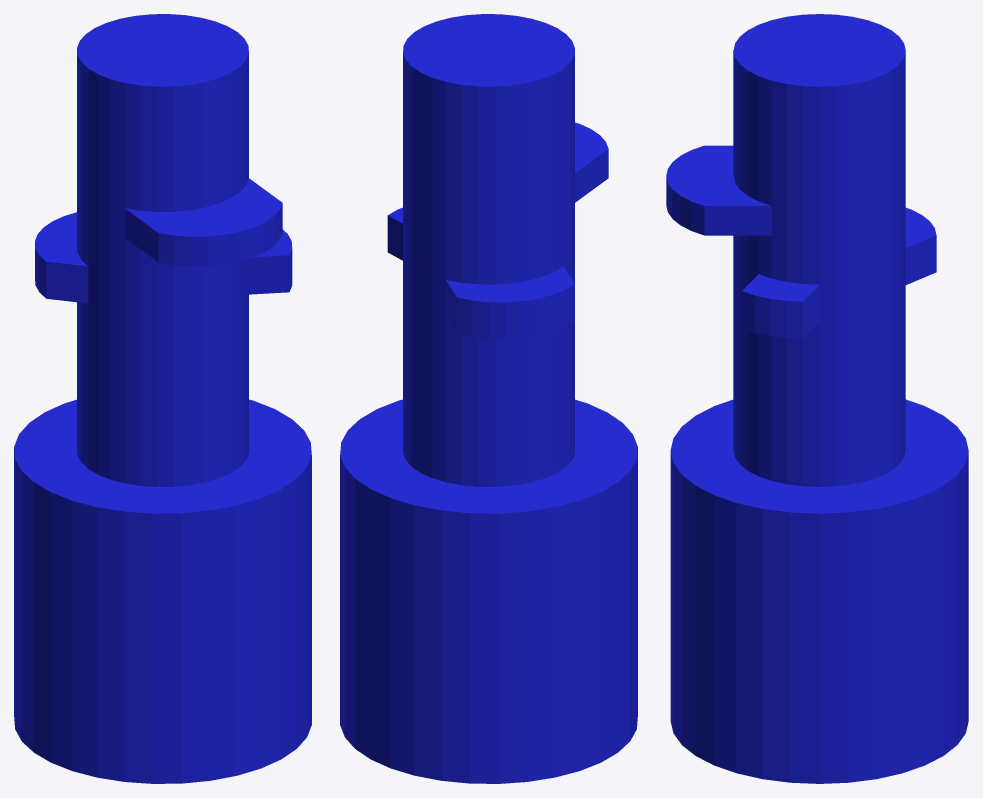
Rendered from newTower.glb.
The picture shows the model from 3 angles, left to right: view 1: azimuth 30°, elevation 25°; view 2: azimuth 150°, elevation 25°; view 3: azimuth 270°, elevation 25°; orthographic projection.
Visible parts, largest first — view 1: Cylinder; view 2: Cylinder; view 3: Cylinder.
Part boxes in pixels (left/top/right/bottom): Cylinder: left=14, top=14, right=311, bottom=783; Cylinder: left=340, top=14, right=637, bottom=783; Cylinder: left=666, top=14, right=968, bottom=783.
Bounding box in the file's own units: 2 × 4.96 × 2.03.
